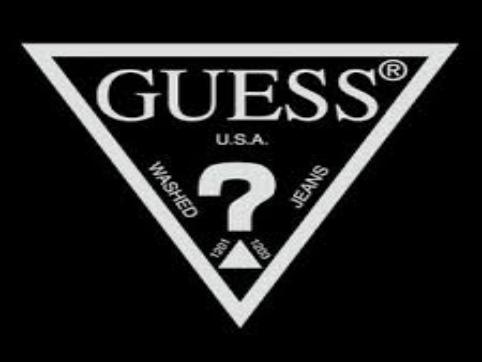GUESS: (10, 38, 462, 337)
